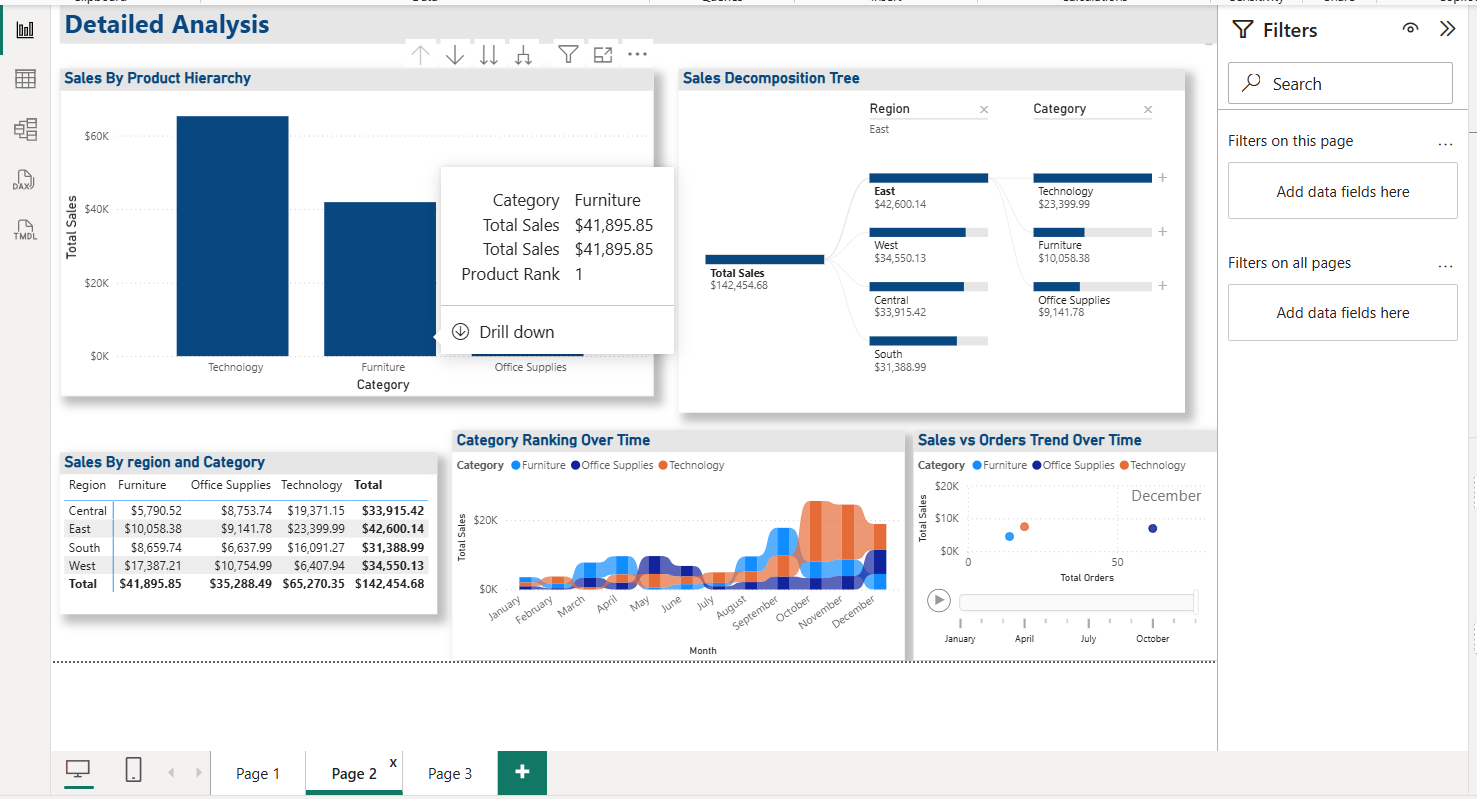

The page's visual inventory and layout, read from the dashboard file:
{"tool":"powerbi","page":{"name":"Page 2","canvas":[1280,720],"ordinal":1},"visuals":[{"type":"textbox","title":"Detailed Analysis","box":[9.8,0,1270.5,48.9],"z":0},{"type":"clusteredColumnChart","title":"Sales By Product Hierarchy","fields":{"Category":["Dim_Products.Product Hierarchy.Category","Dim_Products.Product Hierarchy.Sub-Category","Dim_Products.Product Hierarchy.Product Name"],"Y":["Fact_Orders.Total Sales"]},"box":[9.8,69.7,651.8,359.5],"z":1000},{"type":"pivotTable","title":"Sales By region and Category","fields":{"Rows":["Fact_Orders.Region"],"Columns":["Dim_Products.Category"],"Values":["Fact_Orders.Total Sales"]},"box":[9.8,491.6,414.5,177.3],"z":2000},{"type":"decompositionTreeVisual","title":"Sales Decomposition Tree","fields":{"Analyze":["Fact_Orders.Total Sales"],"ExplainBy":["Fact_Orders.Region","Dim_Products.Category","Dim_Customers.Segment"]},"box":[688.5,69.7,556.4,377.9],"z":3000},{"type":"ribbonChart","title":"Category Ranking Over Time","fields":{"Category":["Dim_Date.Month"],"Series":["Dim_Products.Category"],"Y":["Fact_Orders.Total Sales"]},"box":[440.2,467.1,496.5,253.1],"z":4000},{"type":"scatterChart","title":"Sales vs Orders Trend Over Time","fields":{"X":["Fact_Orders.Total Orders"],"Y":["Fact_Orders.Total Sales"],"Series":["Dim_Products.Category"],"Play":["Dim_Date.Month"]},"box":[946.5,467.1,333.8,253.1],"z":5000}]}

Visuals, with their boxes on the page's 1280x720 design canvas (x1, y1, x2, y2). These are canvas units, not pixel positions in the 1477x799 screenshot, which may show the page scaled, cropped or inside an application window:
"Detailed Analysis" textbox: 10,0,1280,49
"Sales By Product Hierarchy" clusteredColumnChart: 10,70,662,429
"Sales By region and Category" pivotTable: 10,492,424,669
"Sales Decomposition Tree" decompositionTreeVisual: 688,70,1245,448
"Category Ranking Over Time" ribbonChart: 440,467,937,720
"Sales vs Orders Trend Over Time" scatterChart: 946,467,1280,720
